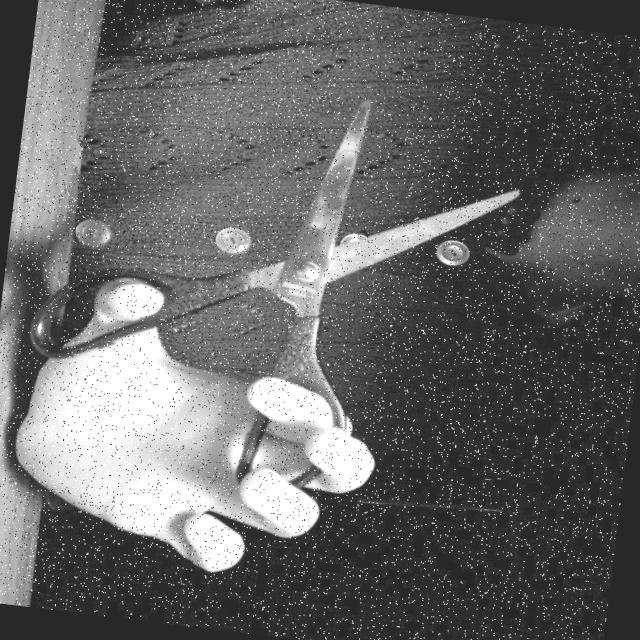scissors: (11, 56, 536, 520)
